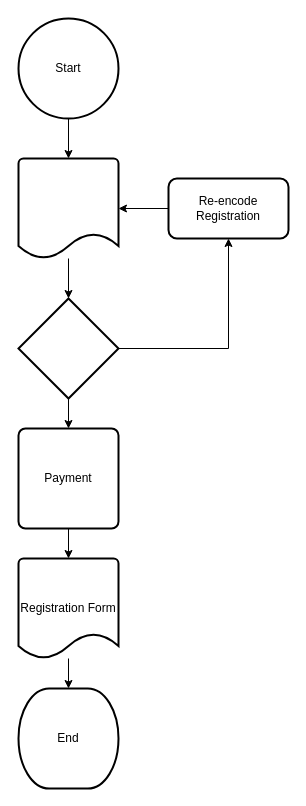
Some shapes in this 306 by 806 pixel diagram are drawn without their labels. The shapes that lost their labels are listed below. From the top down, each one's box as (x1, y1, x2, y2) in pixels, then its label:
(17, 157, 119, 259): Online Registration
(17, 297, 119, 399): Assessment
